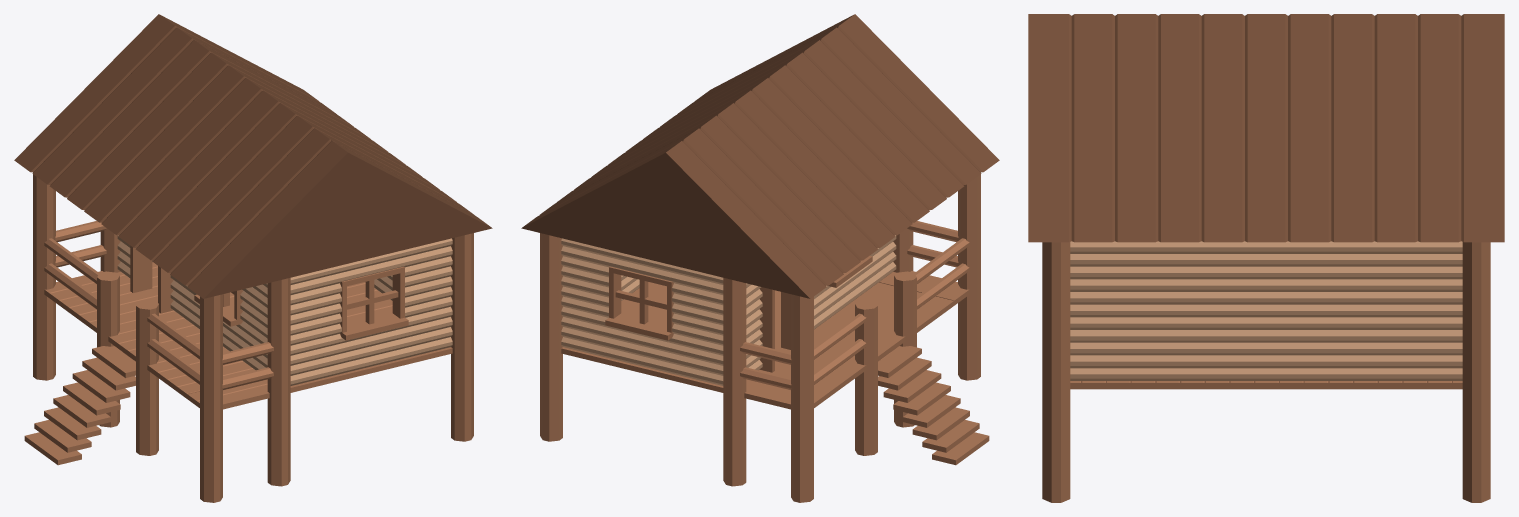
The model's file is Cabin2.fbx.
3 views of the same model, side by side, from view 1: azimuth 30°, elevation 25°; view 2: azimuth 150°, elevation 25°; view 3: azimuth 270°, elevation 25° (orthographic). The views are drawn at different scales.
Parts seen in each view (by area): view 1: Cabin2; view 2: Cabin2; view 3: Cabin2.
Boxes of the visible parts, bbox=[...] form: Cabin2: bbox=[14, 14, 492, 502]; Cabin2: bbox=[521, 14, 999, 502]; Cabin2: bbox=[1028, 14, 1504, 502].
Size of the model in its own units: 1293 by 1118 by 1188.
